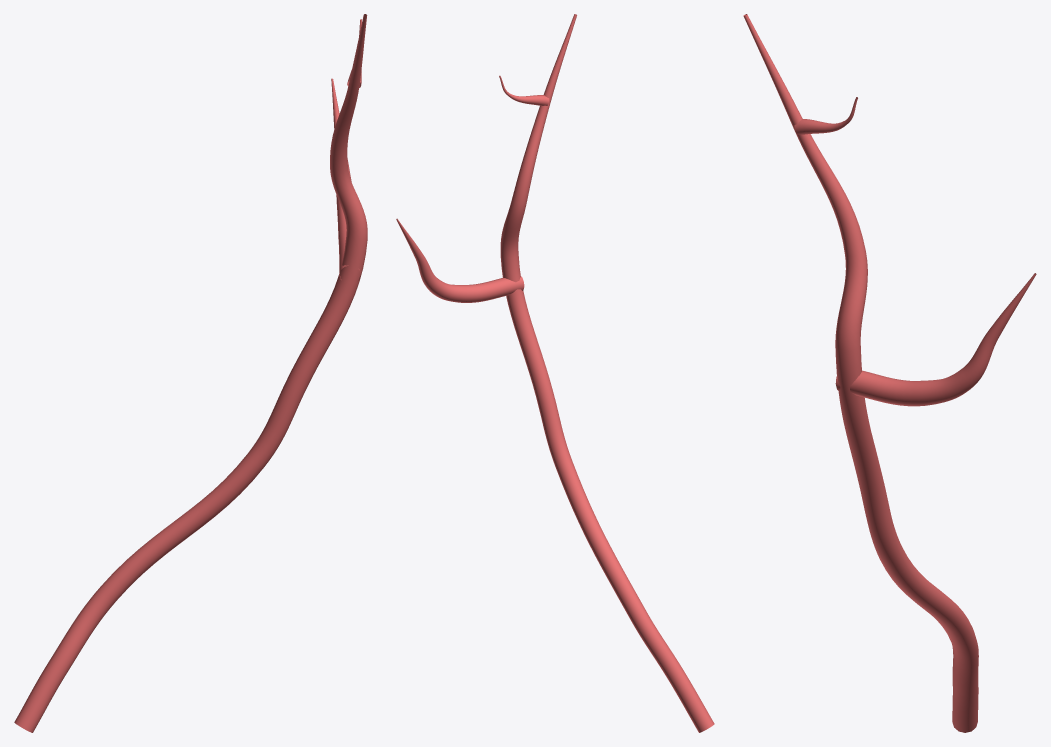
Rendered from Anterior_deep_temporal_artery.r_BezierCurve.092.glb.
The picture shows the model from 3 angles, left to right: view 1: azimuth 30°, elevation 25°; view 2: azimuth 150°, elevation 25°; view 3: azimuth 270°, elevation 25°; orthographic projection. The views are drawn at different scales.
Visible parts, largest first — view 1: Anterior_deep_temporal_artery.r_BezierCurve.092; view 2: Anterior_deep_temporal_artery.r_BezierCurve.092; view 3: Anterior_deep_temporal_artery.r_BezierCurve.092.
Boxes of the visible parts, box(x1,y1,x2,y2) form: Anterior_deep_temporal_artery.r_BezierCurve.092: box(14, 14, 367, 732); Anterior_deep_temporal_artery.r_BezierCurve.092: box(396, 14, 714, 732); Anterior_deep_temporal_artery.r_BezierCurve.092: box(743, 14, 1036, 732).
Size of the model in its own units: 0.0222 by 0.0443 by 0.0137.
